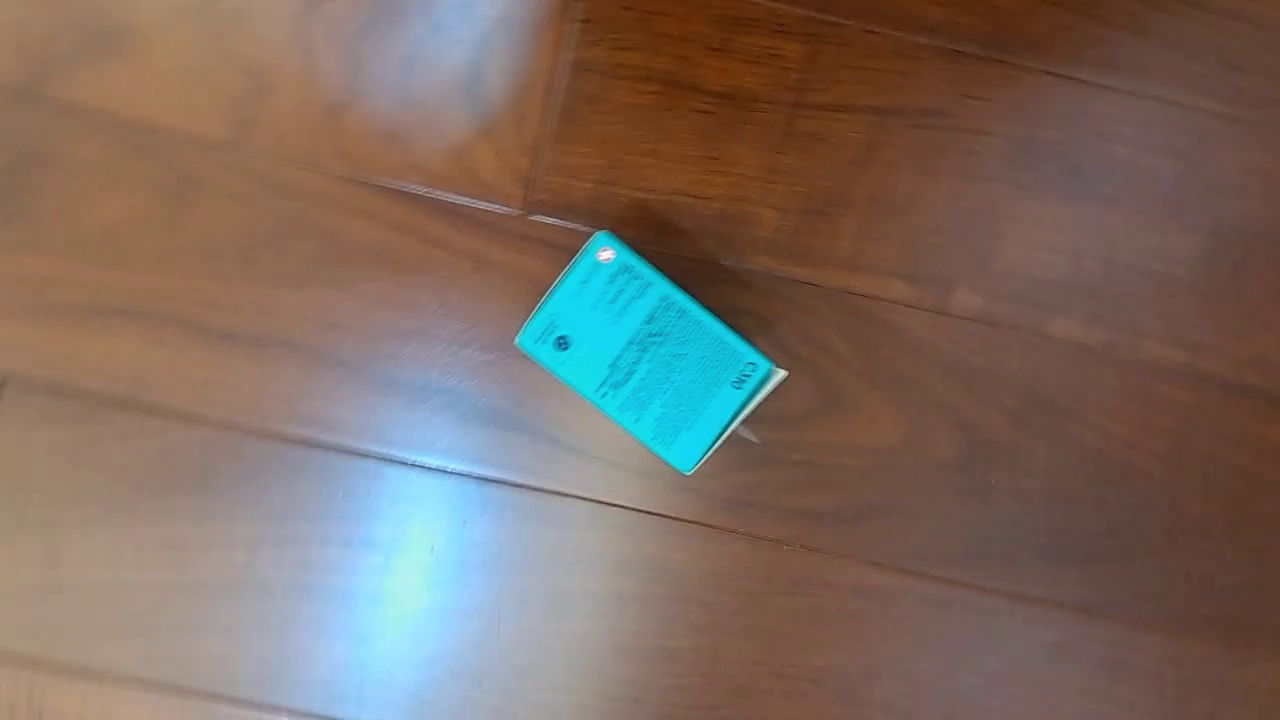webcam: (510, 228, 791, 480)
